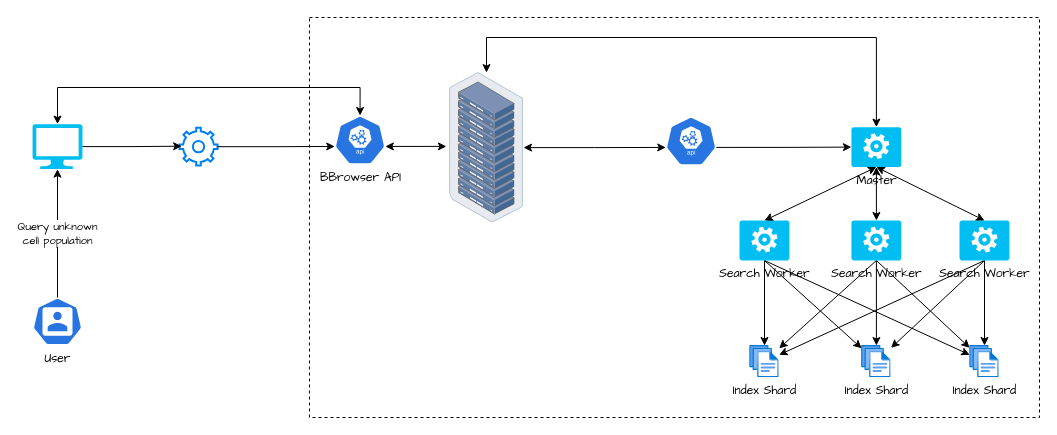
This 1057x435 diagram has some shape labels left out. Here are the shapes that lost their labels. From the top down, the box of each, then its label:
(32, 124, 82, 169): BBrowser
(178, 126, 218, 166): Compute population centroid
(449, 72, 523, 222): BioTuring Server
(664, 116, 717, 166): Cell Search API
